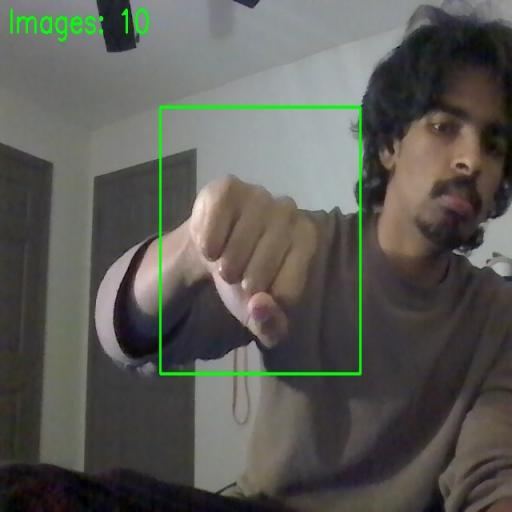backspace: (160, 107, 360, 374)
